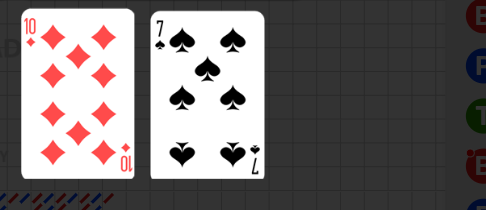10D: (24, 17, 37, 49)
7S: (248, 143, 261, 176)
